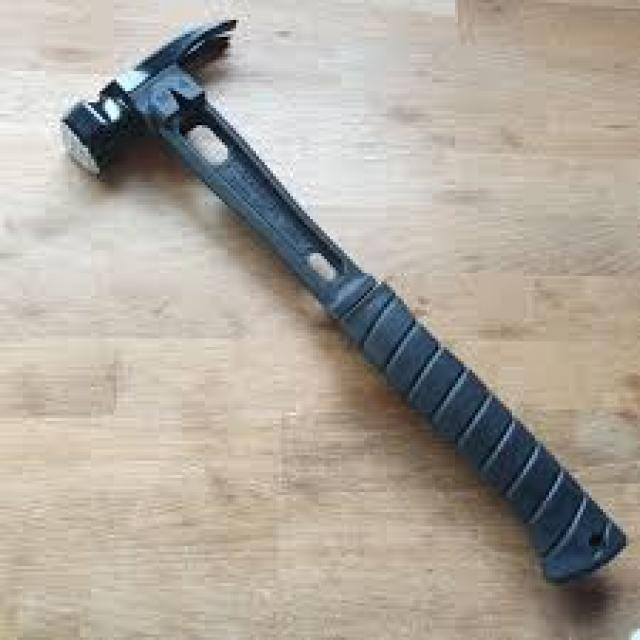hammer: (51, 12, 634, 594)
